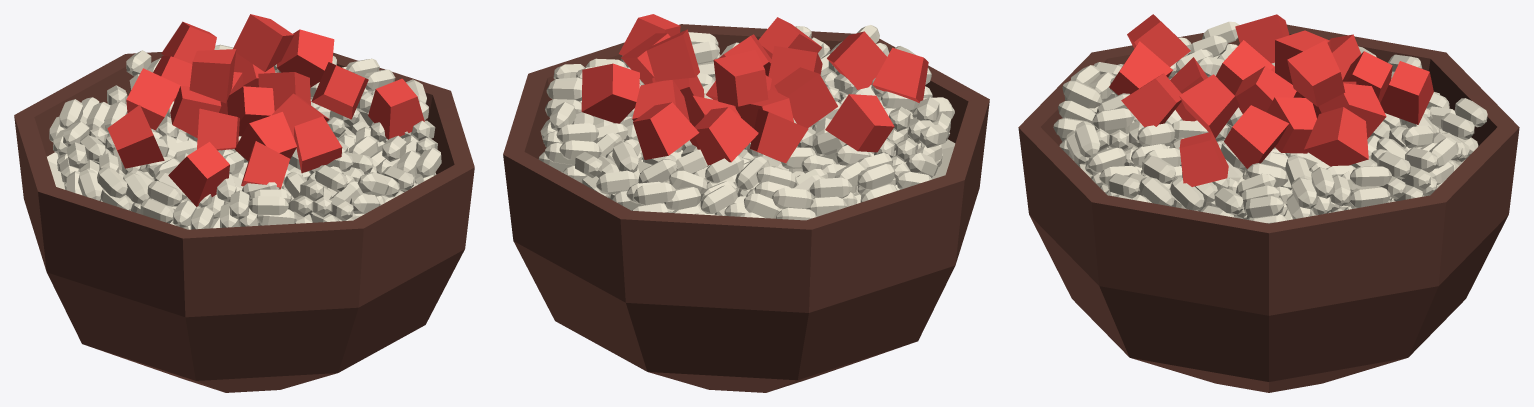
The model's file is Pokebowl.fbx.
3 views of the same model, side by side, from view 1: azimuth 30°, elevation 25°; view 2: azimuth 150°, elevation 25°; view 3: azimuth 270°, elevation 25° (orthographic). The views are drawn at different scales.
Parts seen in each view (by area): view 1: Poke_Bowl; view 2: Poke_Bowl; view 3: Poke_Bowl.
Part boxes in pixels (x1=…): Poke_Bowl: x1=14, y1=14, x2=474, y2=392; Poke_Bowl: x1=503, y1=14, x2=989, y2=392; Poke_Bowl: x1=1018, y1=14, x2=1519, y2=392.
Bounding box in the file's own units: 2 × 1.49 × 2.
